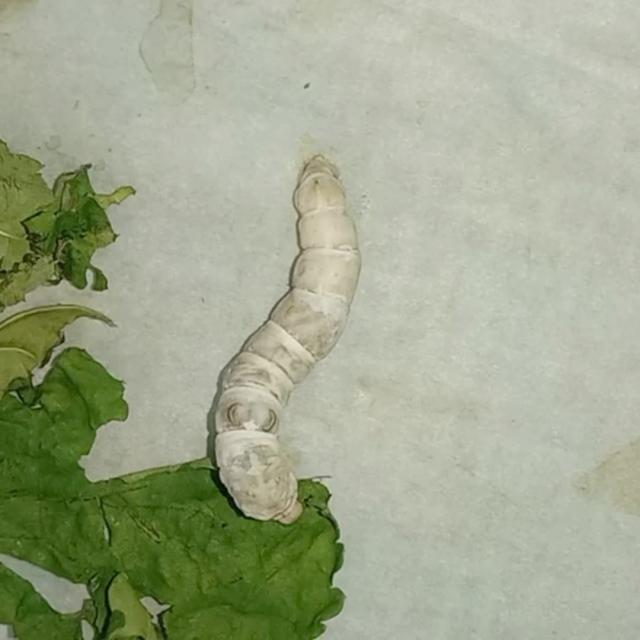Grasserie: (197, 119, 372, 549)
